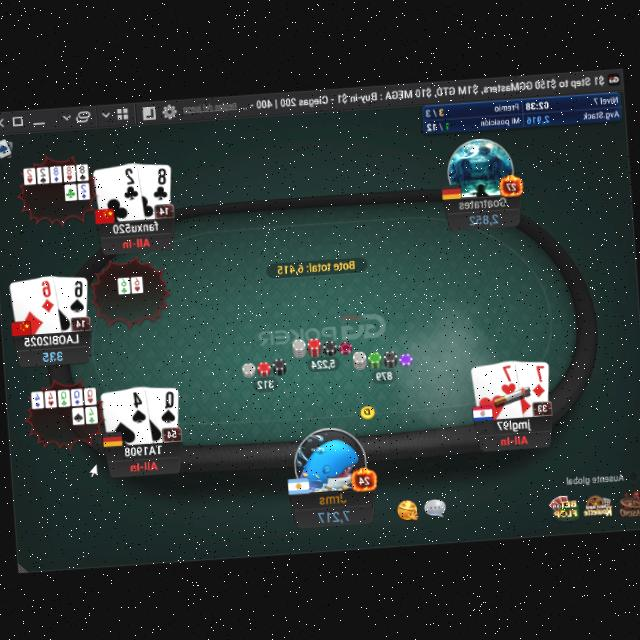2c: (120, 164, 140, 202)
4s: (128, 387, 146, 423)
6d: (38, 276, 56, 314)
6s: (64, 278, 86, 314)
7d: (528, 363, 548, 399)
7h: (498, 362, 518, 394)
8c: (149, 164, 169, 202)
Qs: (156, 386, 176, 424)
all_in_symbol: (497, 430, 530, 446), (128, 456, 160, 471), (120, 233, 150, 248)
bet_text: (308, 357, 336, 369), (372, 368, 393, 381), (254, 377, 274, 389)
dealer: (358, 401, 376, 419)
pot_text: (275, 256, 357, 276)
stack_text: (314, 504, 352, 524), (465, 208, 499, 224), (40, 347, 64, 363)
